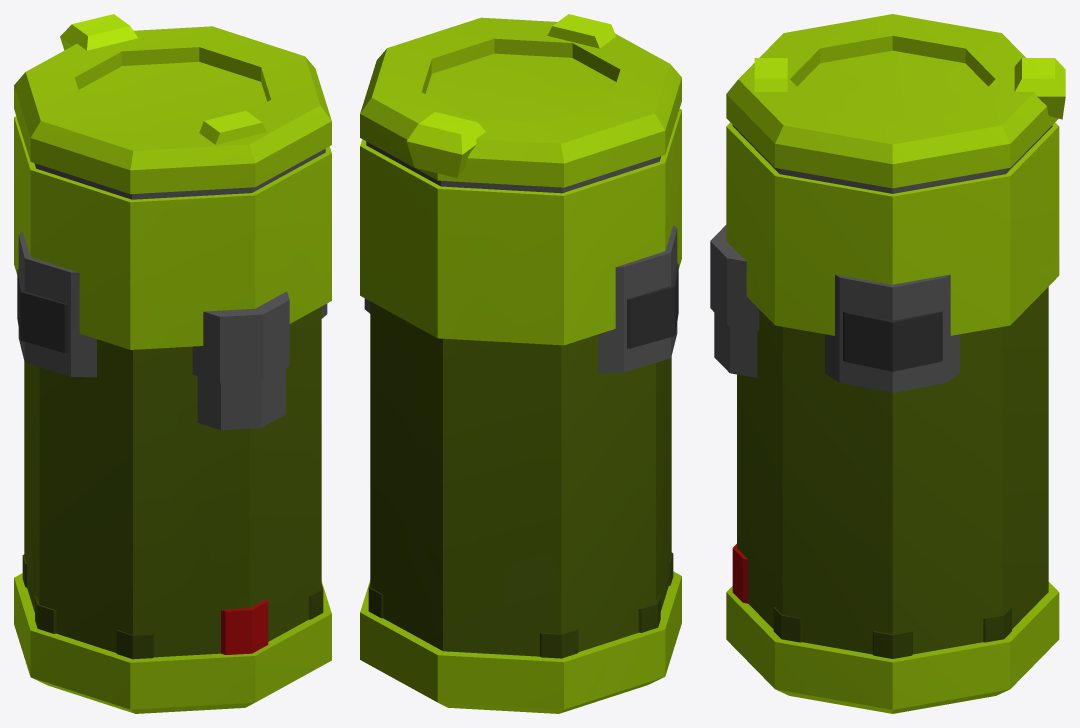
File: barrel_green.fbx
3 views of the same model, side by side, from view 1: azimuth 30°, elevation 25°; view 2: azimuth 150°, elevation 25°; view 3: azimuth 270°, elevation 25° (orthographic).
Visible parts, largest first — view 1: Barrel_2; view 2: Barrel_2; view 3: Barrel_2.
Part boxes in pixels (x1,y1,x2,y2): Barrel_2: (14,14,331,713); Barrel_2: (360,14,681,713); Barrel_2: (710,14,1065,713).
Bounding box in the file's own units: 34.24 × 62.04 × 34.23.
